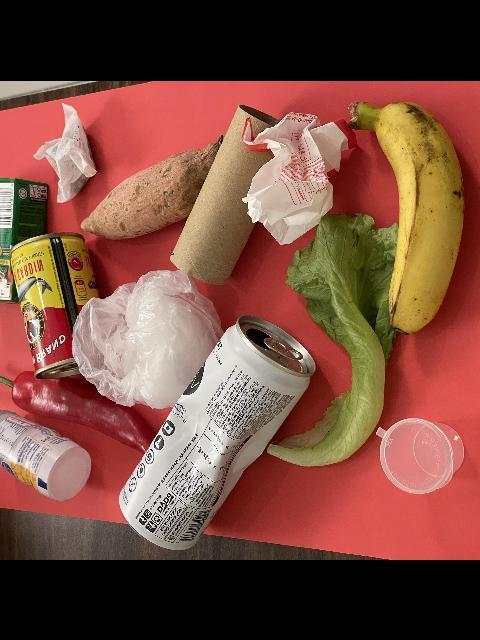banana: (346, 100, 466, 334)
chilli: (0, 365, 160, 456)
drinkcan: (118, 314, 318, 550)
drinkpack: (0, 175, 48, 303)
foodcan: (8, 230, 106, 380)
lettuce: (266, 211, 402, 467)
paperbag: (240, 109, 358, 245)
plasticbottle: (0, 407, 94, 500)
plasticcontainer: (374, 416, 466, 494)
sweetpotato: (79, 134, 227, 240)
teabag: (33, 100, 99, 202)
tissueroll: (169, 102, 291, 286)
